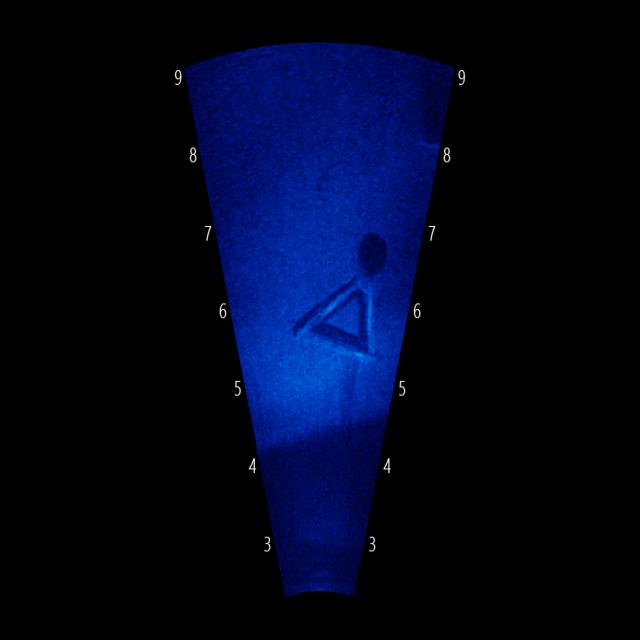triangle: (288, 269, 394, 379)
